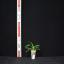leaf: (27, 41, 34, 48), (24, 44, 33, 49), (33, 45, 42, 48), (25, 47, 33, 50), (26, 49, 33, 52), (34, 46, 40, 49), (34, 48, 40, 50)
